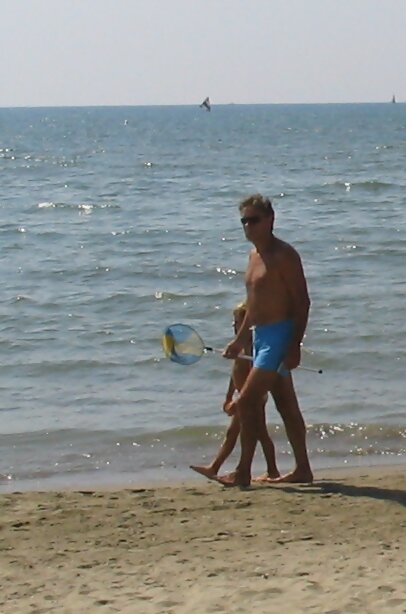person: (216, 192, 326, 485)
